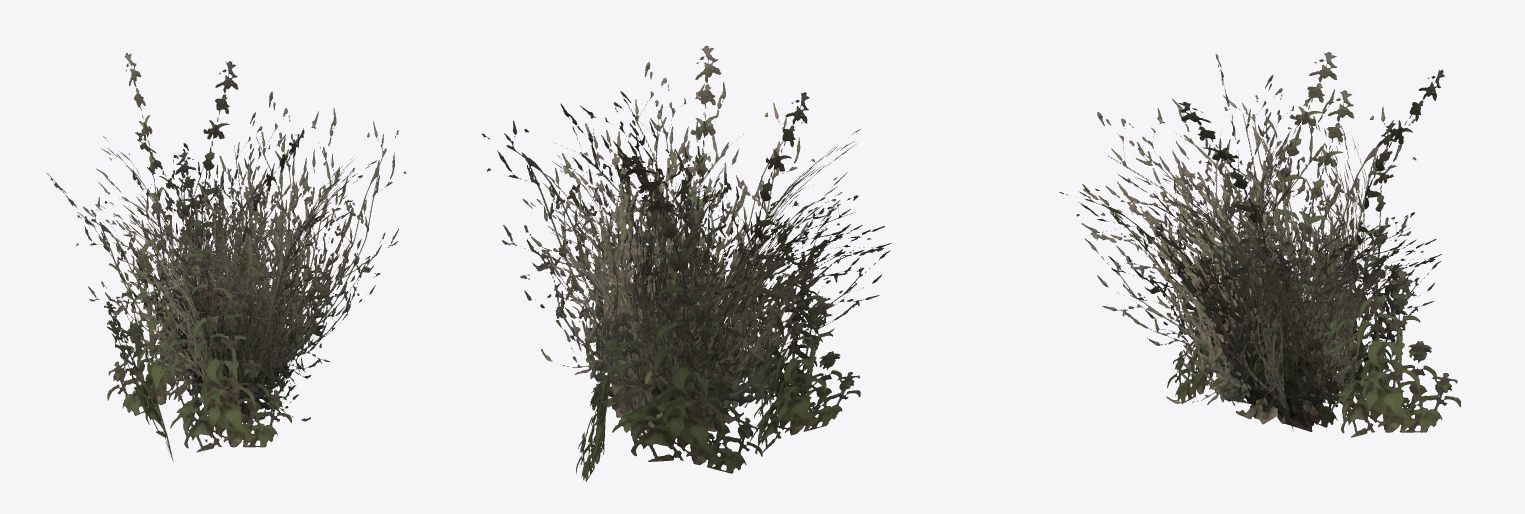
Rendered from mg_9_plant_1.fbx.
The picture shows the model from 3 angles, left to right: view 1: azimuth 30°, elevation 25°; view 2: azimuth 150°, elevation 25°; view 3: azimuth 270°, elevation 25°; orthographic projection. The views are drawn at different scales.
Parts seen in each view (by area): view 1: mg_9_plant_1; view 2: mg_9_plant_1; view 3: mg_9_plant_1.
Boxes of the visible parts, bbox=[...] form: mg_9_plant_1: bbox=[46, 53, 406, 461]; mg_9_plant_1: bbox=[481, 45, 891, 481]; mg_9_plant_1: bbox=[1059, 52, 1460, 437].
Size of the model in its own units: 169 by 148 by 178.
